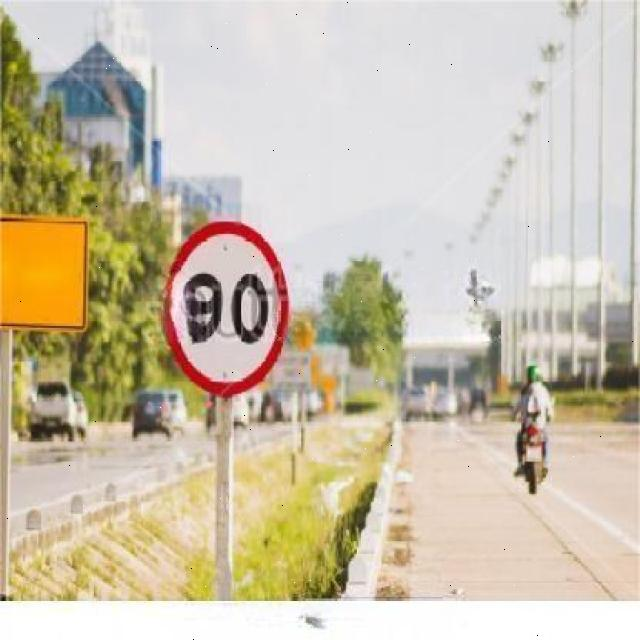speed limit 90: (161, 221, 290, 395)
